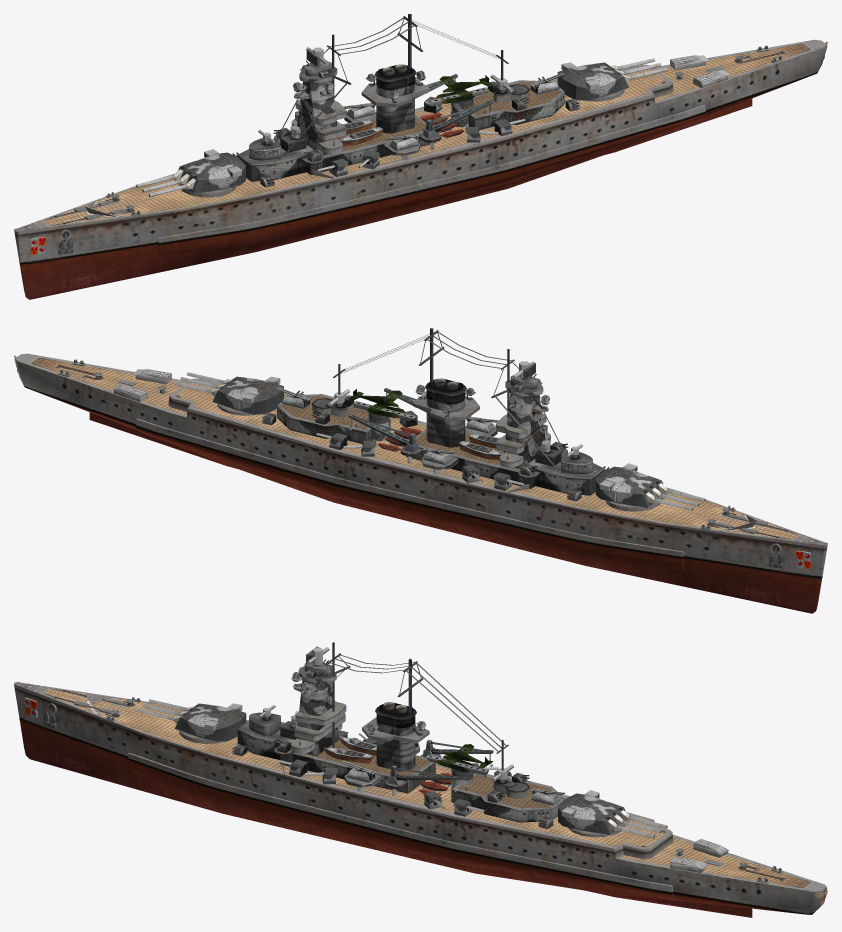
File: graf_spee_low_poly.glb
3 renders of one model, top to bottom at view 1: azimuth 30°, elevation 25°; view 2: azimuth 150°, elevation 25°; view 3: azimuth 330°, elevation 25°, orthographic.
Parts seen in each view (by area): view 1: material0; view 2: material0; view 3: material0.
Boxes of the visible parts, x1,y1,x2,y2 form: material0: (14,14,827,299); material0: (14,328,827,613); material0: (14,642,827,917).
Size of the model in its own units: 2648 by 599 by 318.
1 material, 1 textured.
